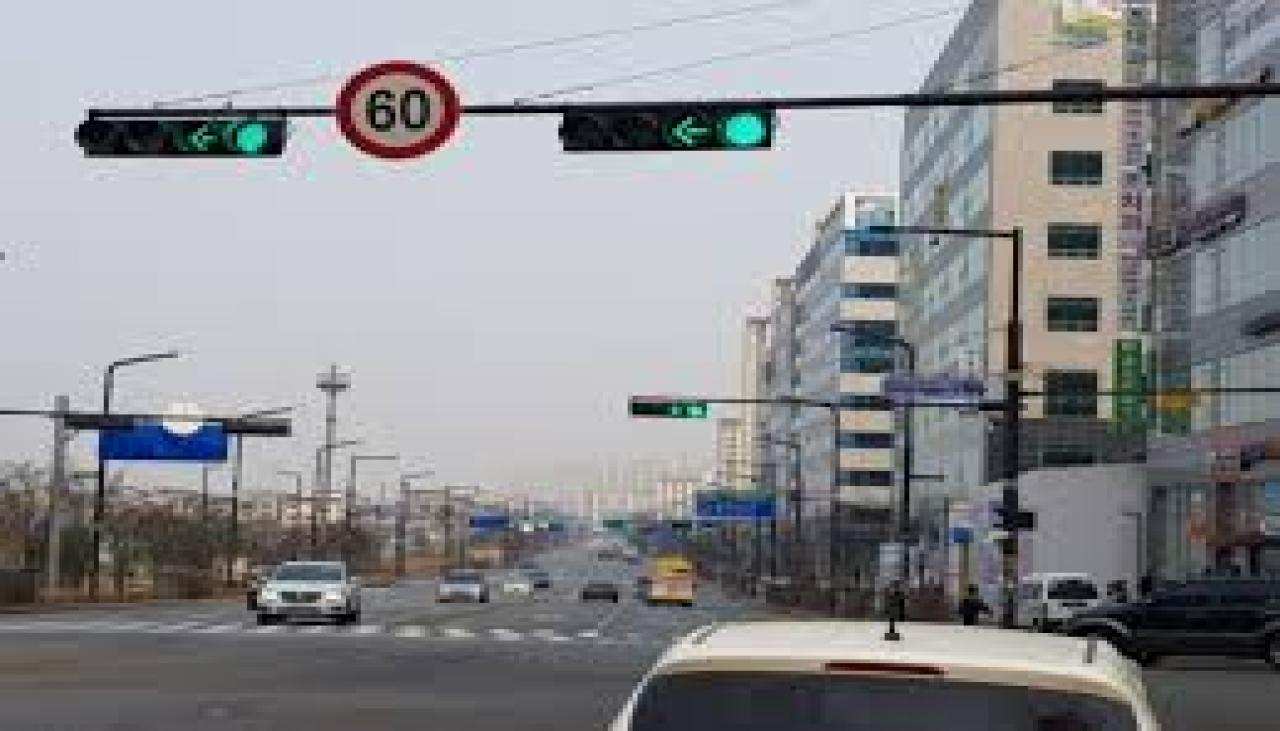Green Light: (716, 104, 771, 151), (224, 118, 279, 156), (688, 398, 708, 419)
Left turn: (661, 104, 715, 150), (176, 113, 226, 157), (664, 398, 686, 418)
